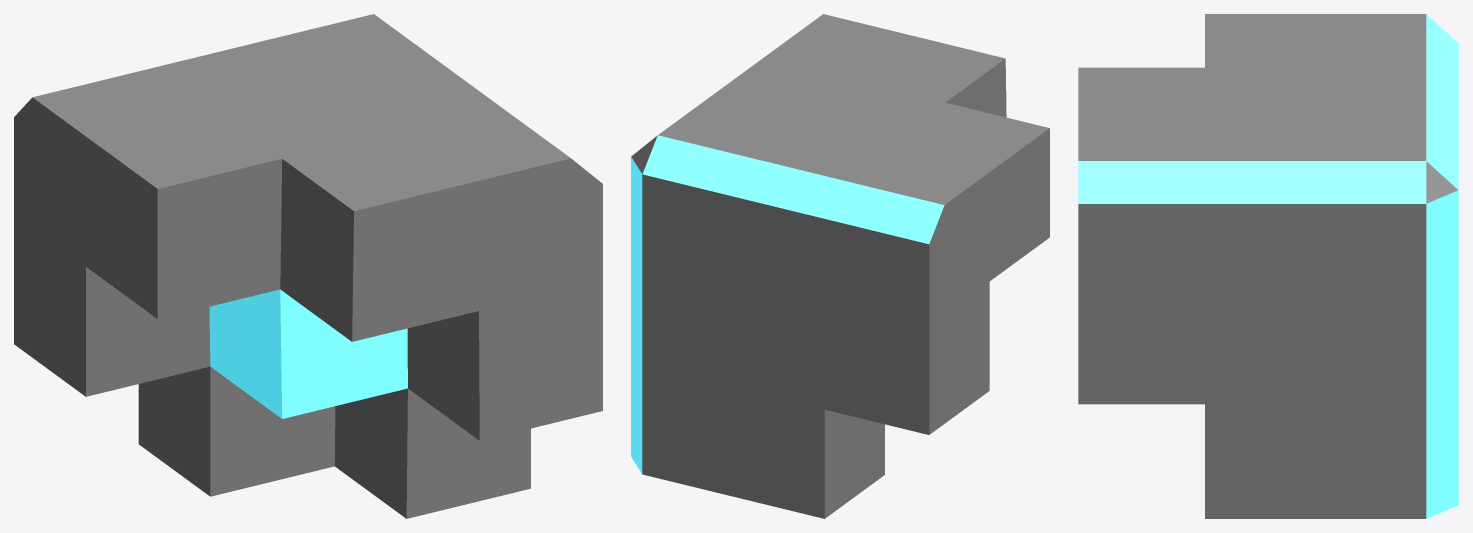
The model's file is Key-fragment.FBX.
The picture shows the model from 3 angles, left to right: view 1: azimuth 30°, elevation 25°; view 2: azimuth 150°, elevation 25°; view 3: azimuth 270°, elevation 25°; orthographic projection. The views are drawn at different scales.
Visible parts, largest first — view 1: 对象010; view 2: 对象010; view 3: 对象010.
Boxes of the visible parts, <box> form: 对象010: <box>14,14,602,518</box>; 对象010: <box>631,14,1049,518</box>; 对象010: <box>1078,14,1458,518</box>.
Size of the model in its own units: 30 by 30 by 30.
